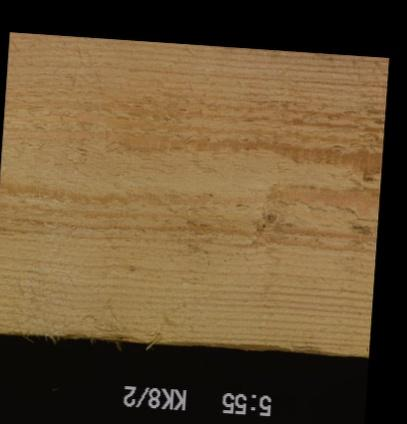small_knot: (263, 211, 278, 227)
wave: (42, 330, 323, 350)
